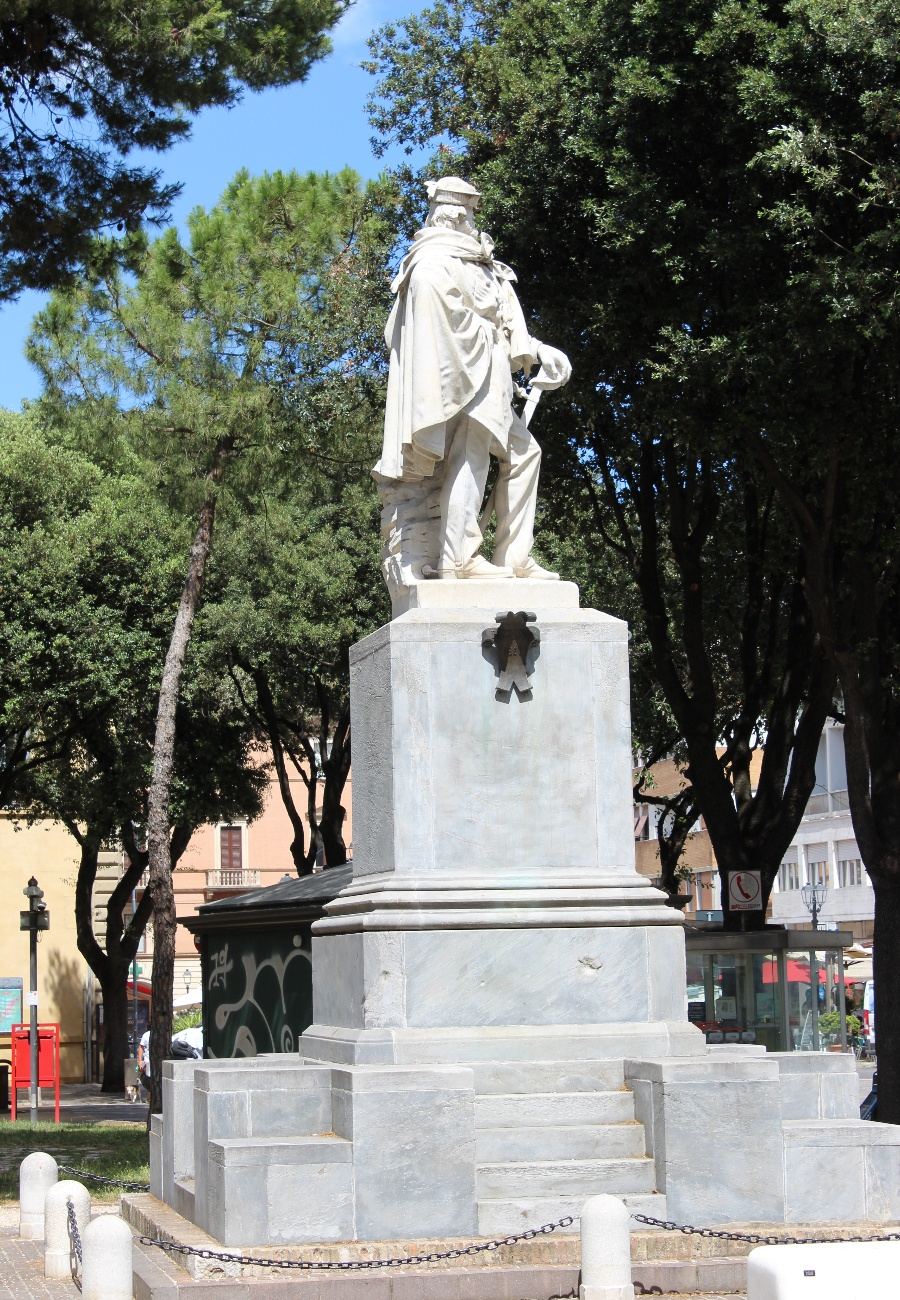Giuseppe Garibaldi: (374, 178, 574, 613)
